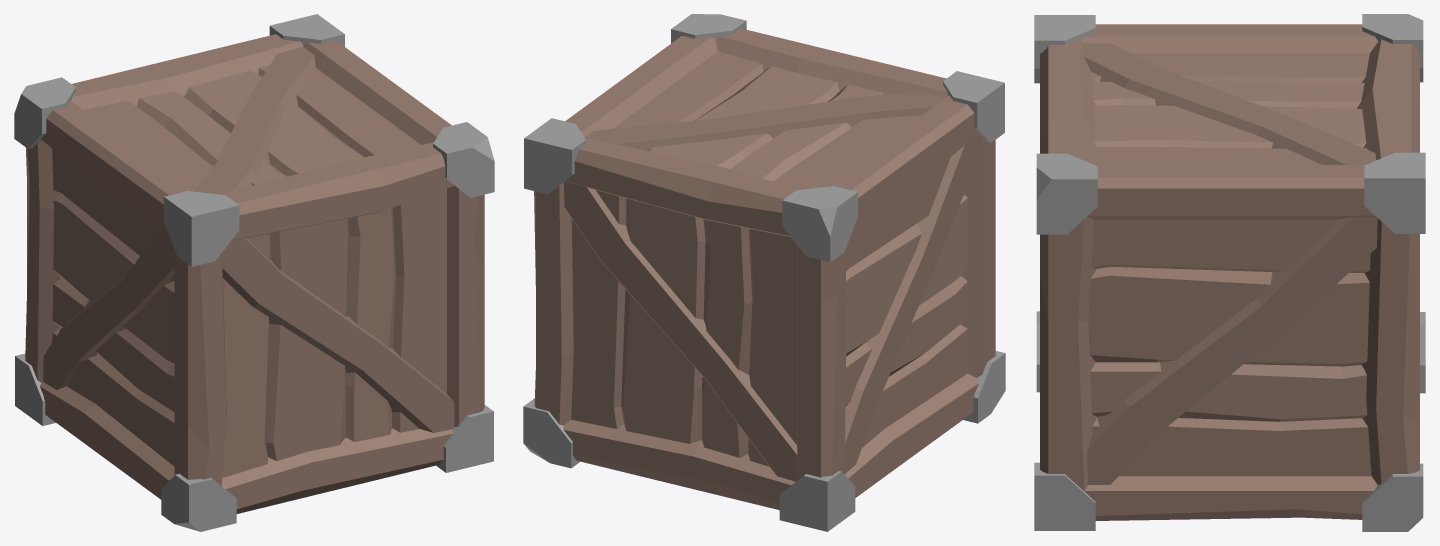
Rendered from Obstacle_GoblinsGrot.fbx.
The picture shows the model from 3 angles, left to right: view 1: azimuth 30°, elevation 25°; view 2: azimuth 150°, elevation 25°; view 3: azimuth 270°, elevation 25°; orthographic projection. The views are drawn at different scales.
Parts seen in each view (by area): view 1: Obstacle_Grot; view 2: Obstacle_Grot; view 3: Obstacle_Grot.
Boxes of the visible parts, x1,y1,x2,y2 form: Obstacle_Grot: (14, 14, 494, 531); Obstacle_Grot: (523, 14, 1005, 531); Obstacle_Grot: (1034, 14, 1425, 531).
Bounding box in the file's own units: 93.17 × 92.65 × 93.17.
Materials: 1 (1 with a texture image).
